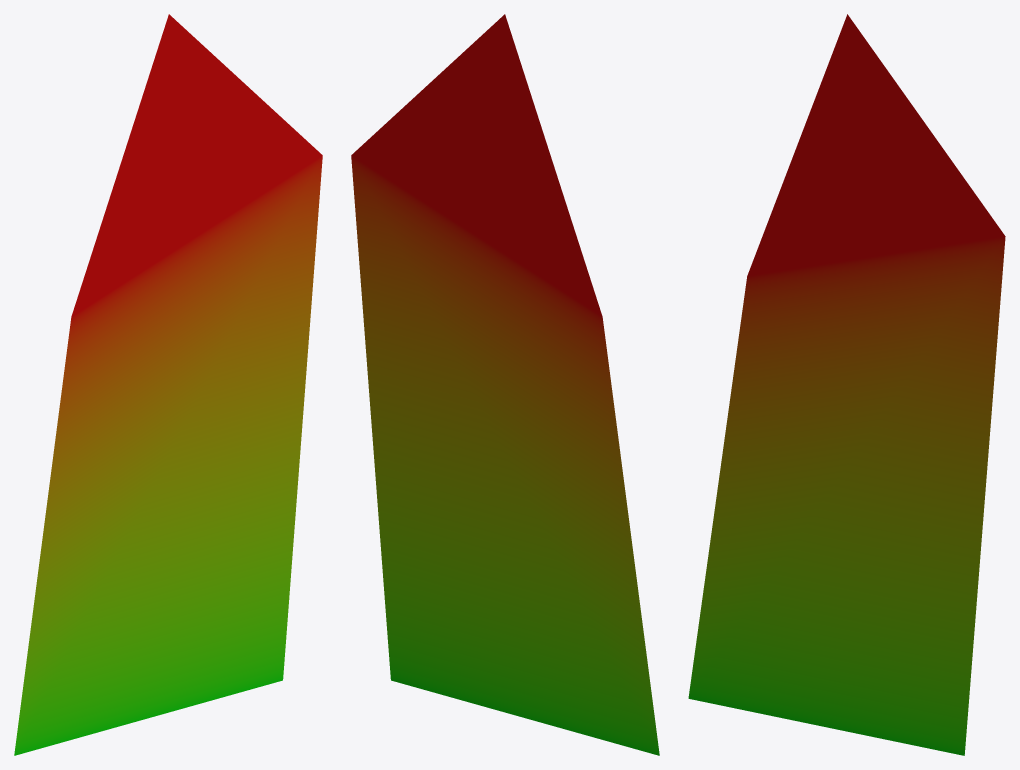
Rendered from Wheat Grass_LOD3_Var4_tdcrdbur.fbx.
The picture shows the model from 3 angles, left to right: view 1: azimuth 30°, elevation 25°; view 2: azimuth 150°, elevation 25°; view 3: azimuth 330°, elevation 25°; orthographic projection. The views are drawn at different scales.
Parts seen in each view (by area): view 1: _70b8_Var4_LOD3; view 2: _70b8_Var4_LOD3; view 3: _70b8_Var4_LOD3.
Boxes of the visible parts, left/top/right/bottom form: _70b8_Var4_LOD3: left=14, top=14, right=322, bottom=755; _70b8_Var4_LOD3: left=351, top=14, right=659, bottom=755; _70b8_Var4_LOD3: left=688, top=14, right=1005, bottom=755.
Size of the model in its own units: 52.76 by 115 by 1.81e-05.
